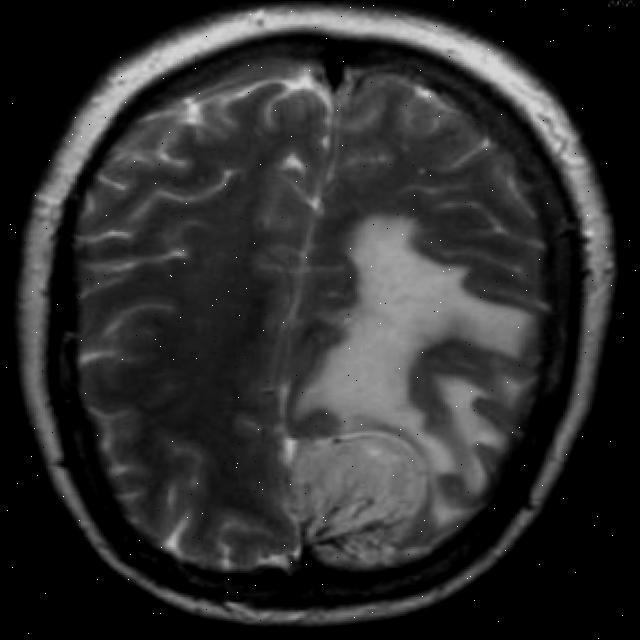tumor: (289, 211, 550, 569)
